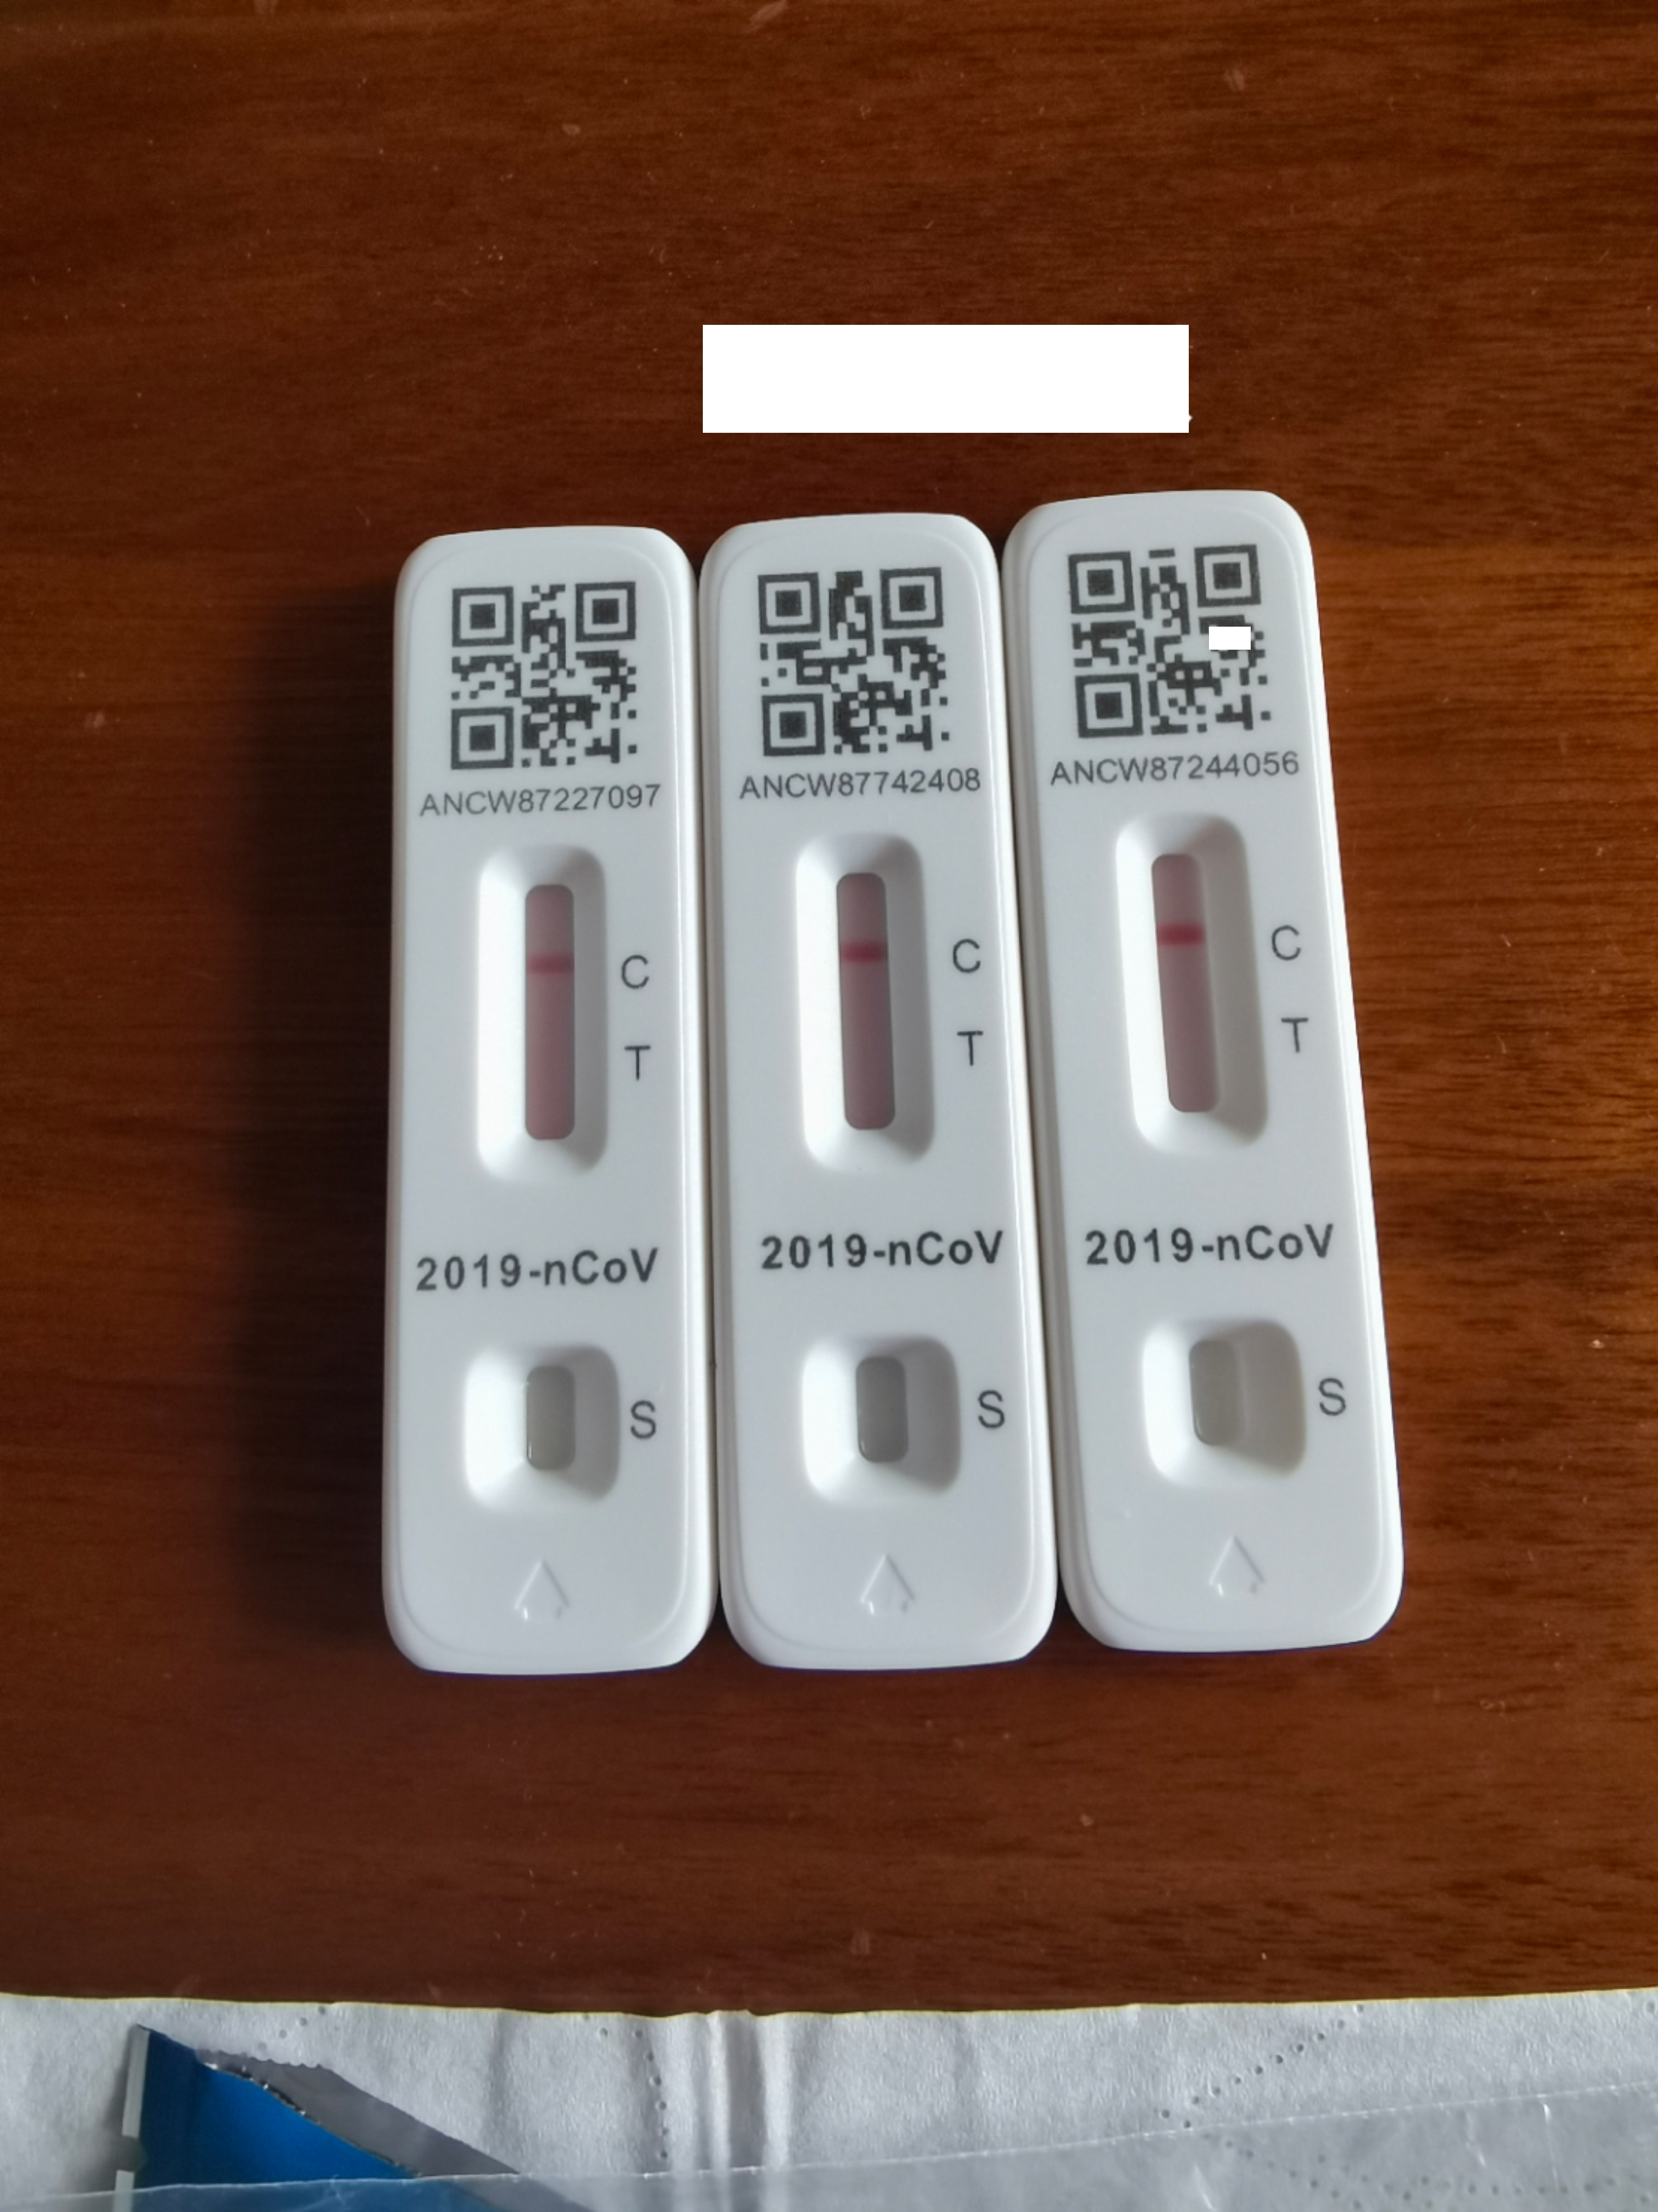negative: (1122, 815, 1259, 1155), (801, 833, 932, 1170), (486, 841, 604, 1188)
